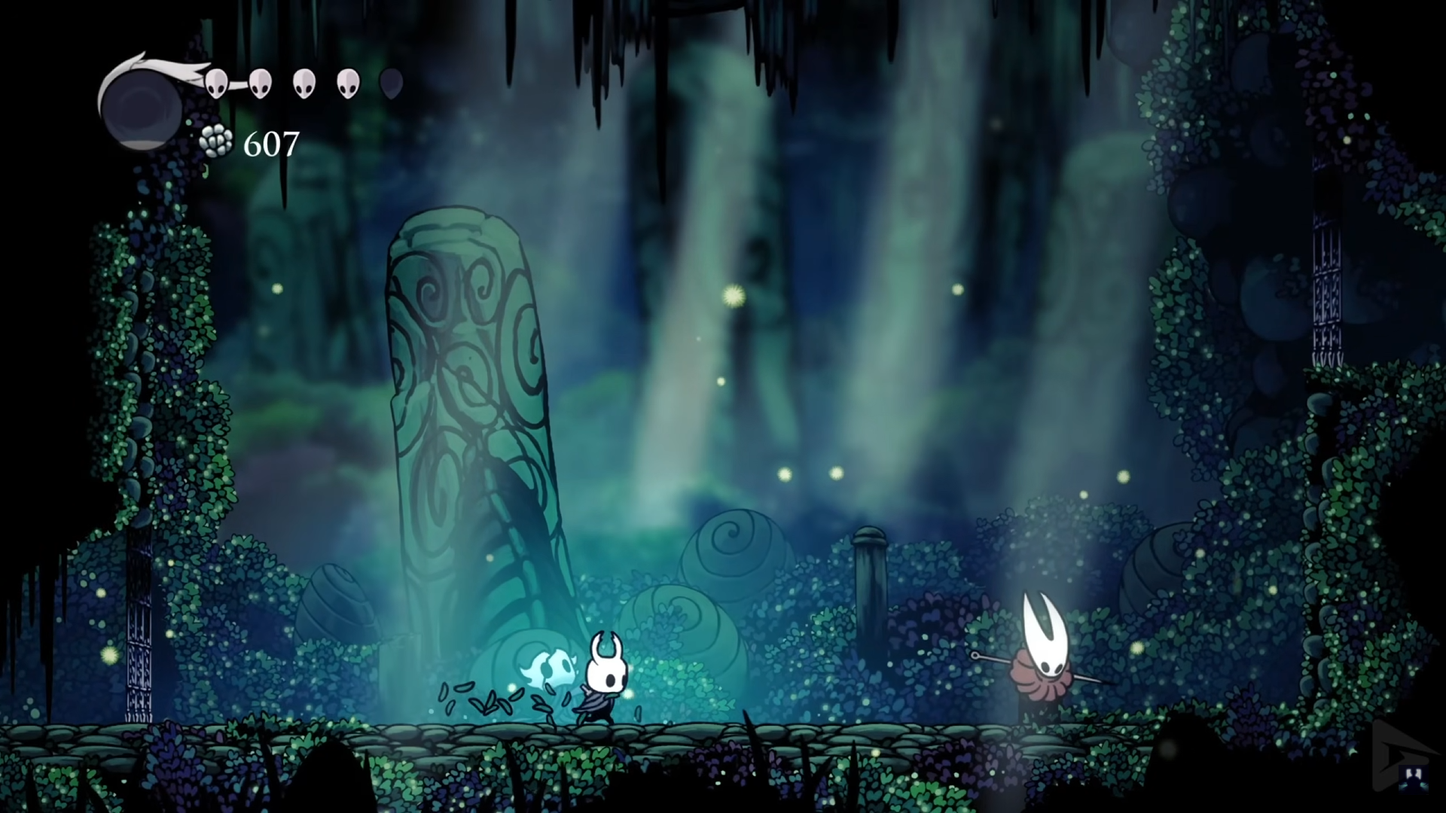HK: (573, 629, 637, 729)
